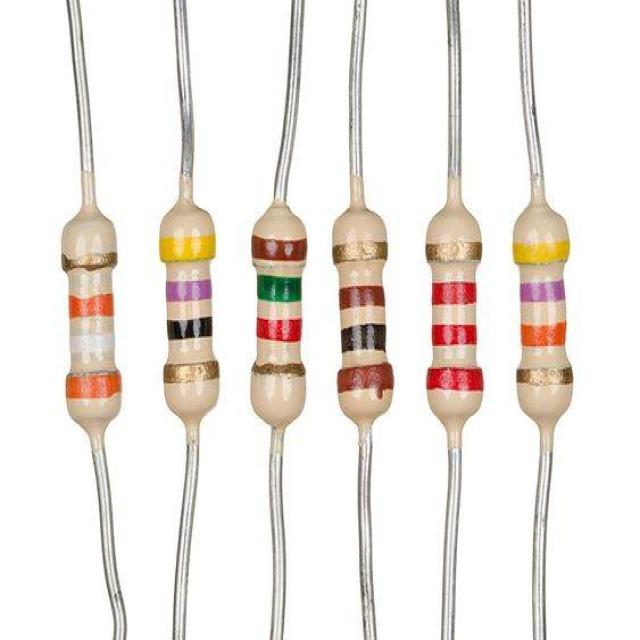Resistor: (50, 168, 147, 466), (323, 176, 414, 458), (511, 173, 589, 452), (155, 178, 233, 452), (420, 167, 494, 450), (251, 187, 311, 440)
